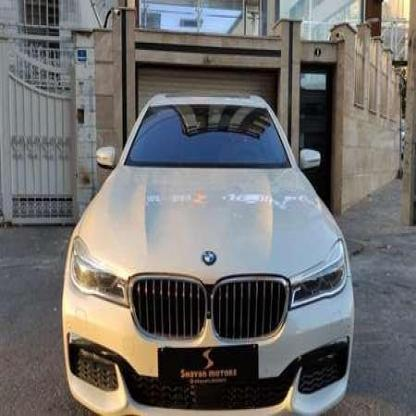Car: (57, 111, 360, 416)
